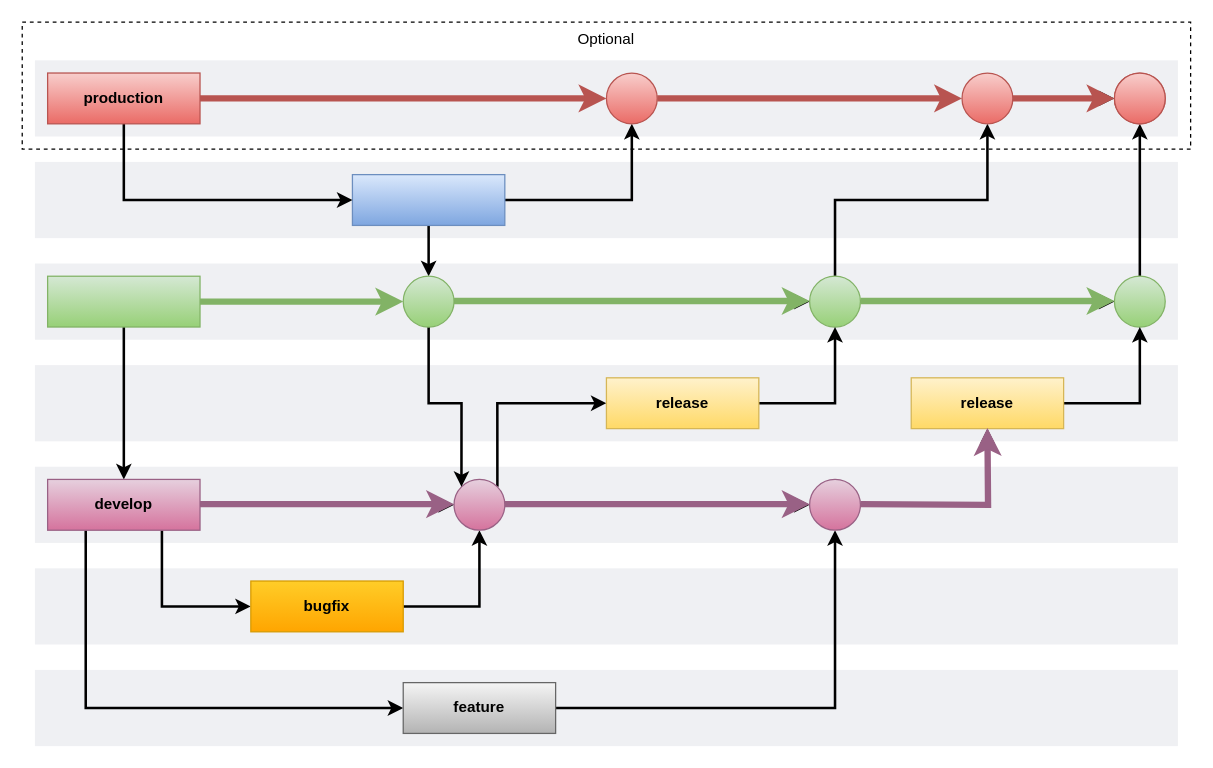
This 1213x768 diagram has some shape labels left out. Here are the shapes that lost their labels. From the top down, the centre of each, then its label:
At point 428,199: "hotfix".
At point 123,301: "master".
